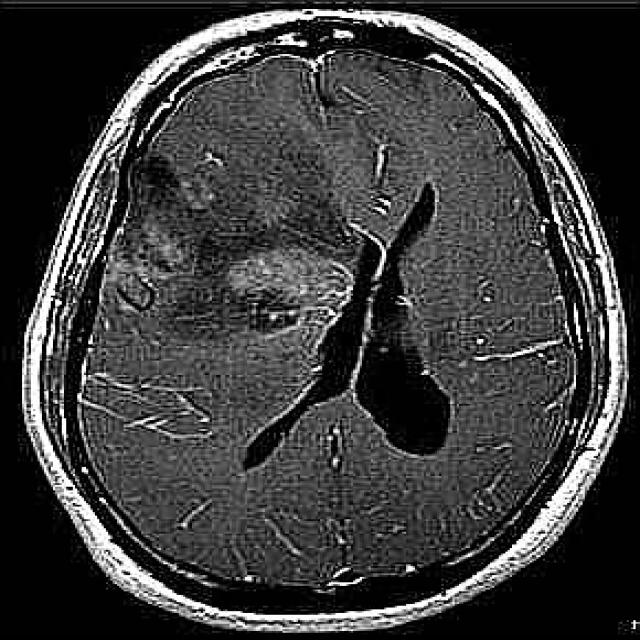Tumor-Cell: (126, 191, 344, 337)
